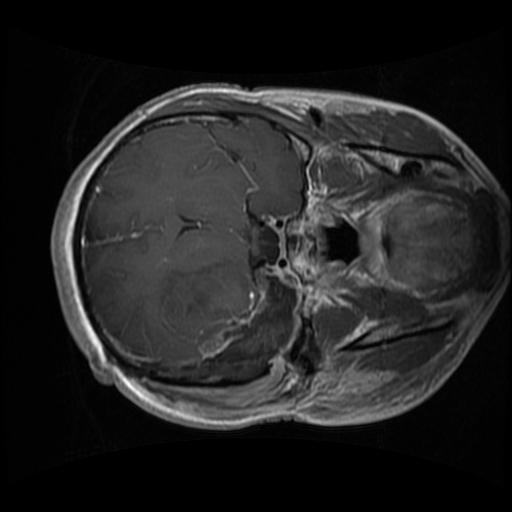glioma: (154, 278, 296, 385)
